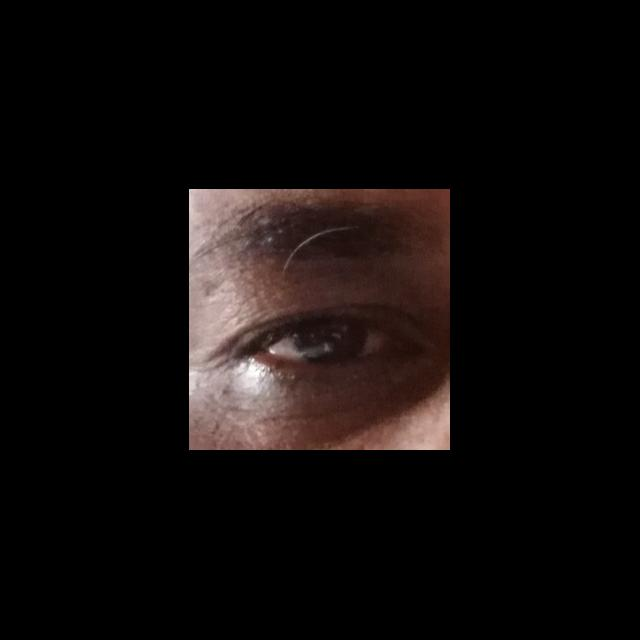eye: (265, 324, 397, 365)
iris: (292, 327, 369, 361)
